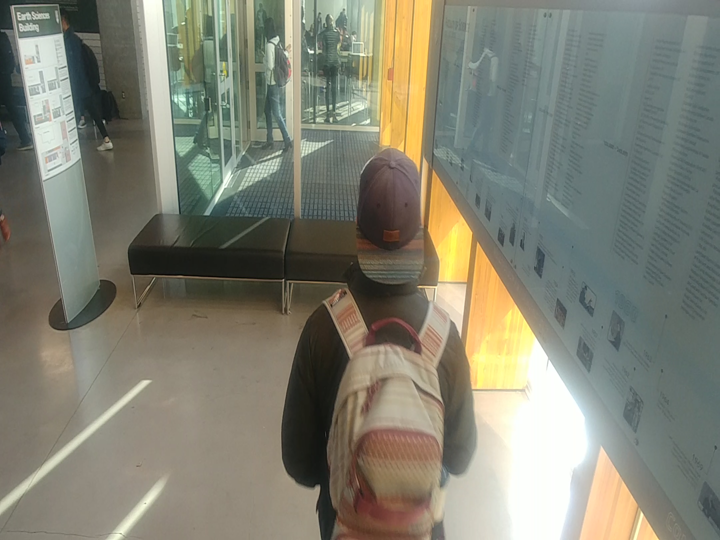face: (352, 143, 435, 293), (259, 14, 281, 40), (319, 12, 339, 28)
human: (273, 140, 486, 540), (58, 5, 116, 153), (254, 11, 294, 154), (314, 8, 348, 128)
